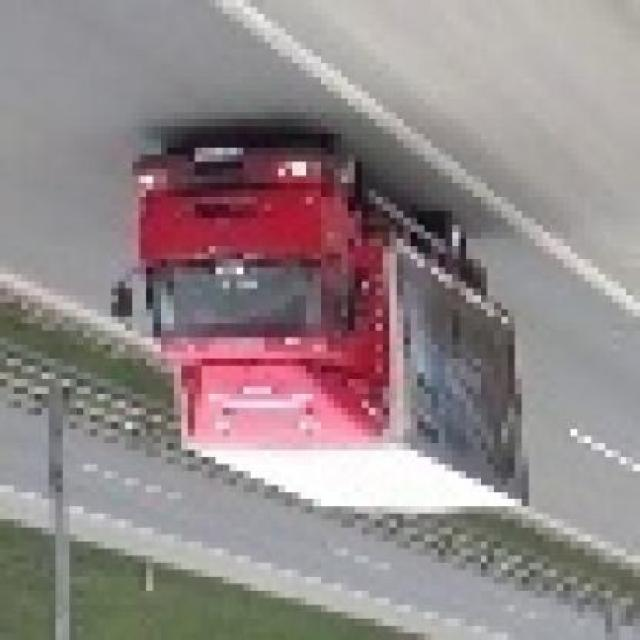truck: (105, 149, 529, 529)
